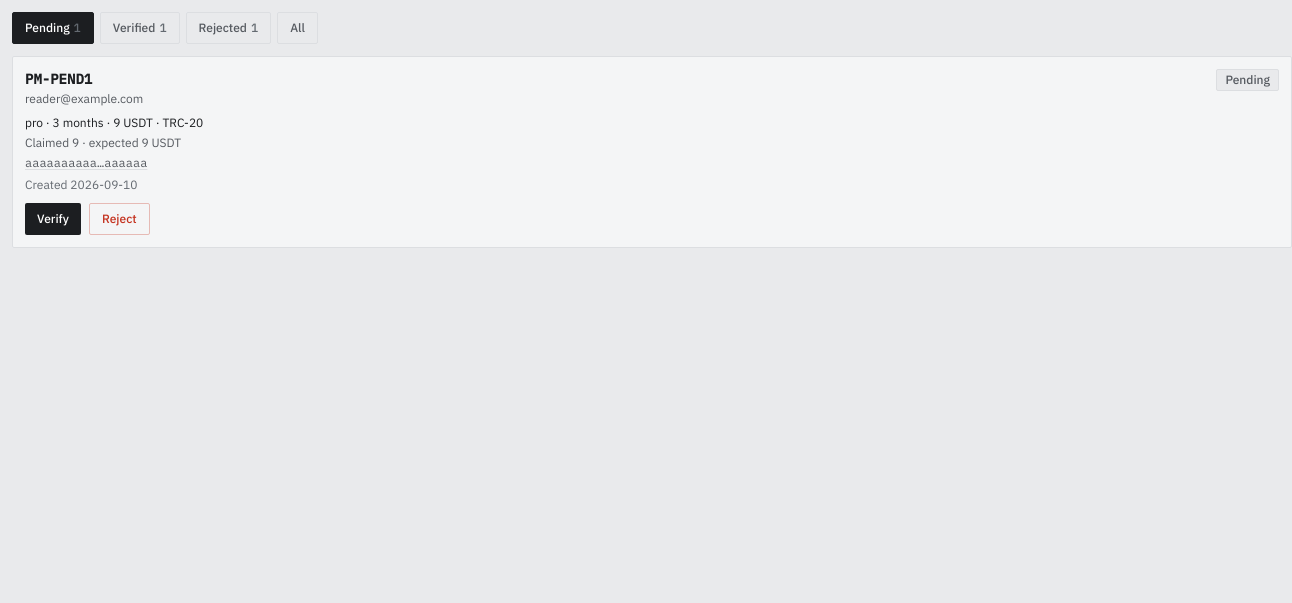
Test: filters the list by status, pending first
expect the number of list items with test id "admin-order-row" is 1: met, box [12,56,1291,248]
expect the text "PM-PEND1" is shown: met, box [25,70,92,88]
Click the button with test id "filter-verified": [140, 28] box [100,12,180,44]
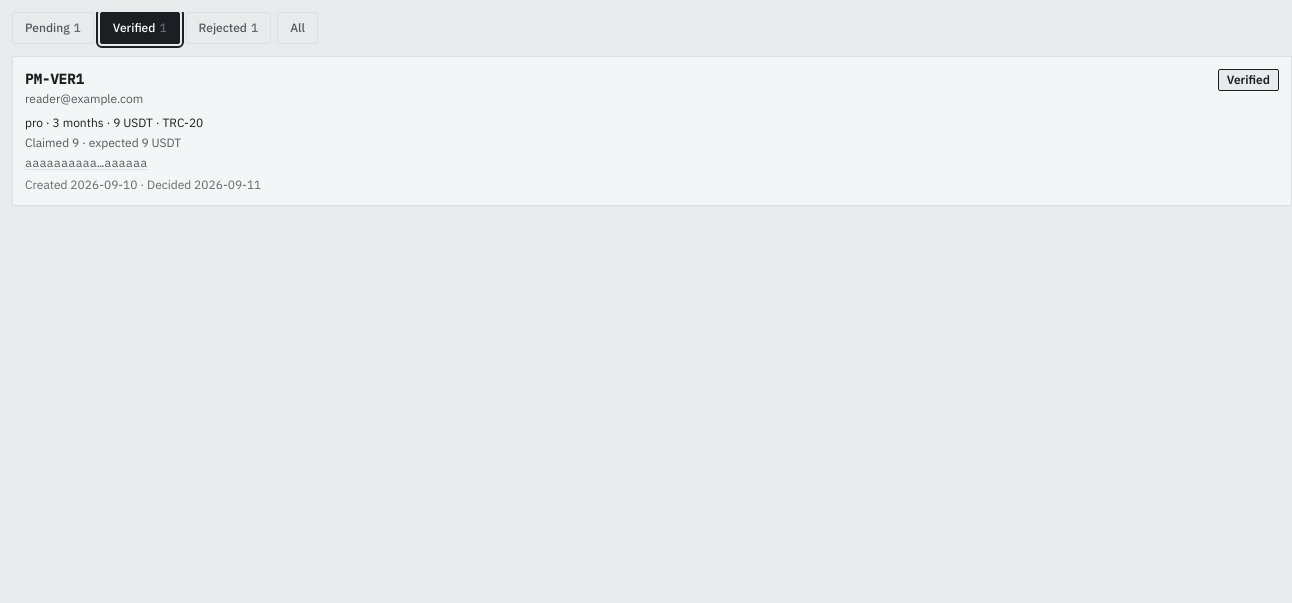
expect the text "PM-VER1" is shown: met, box [25,70,84,88]
expect the text "PM-PEND1" is gone: met
Click the button with test id "filter-rejected": [228, 28] box [186,12,271,44]
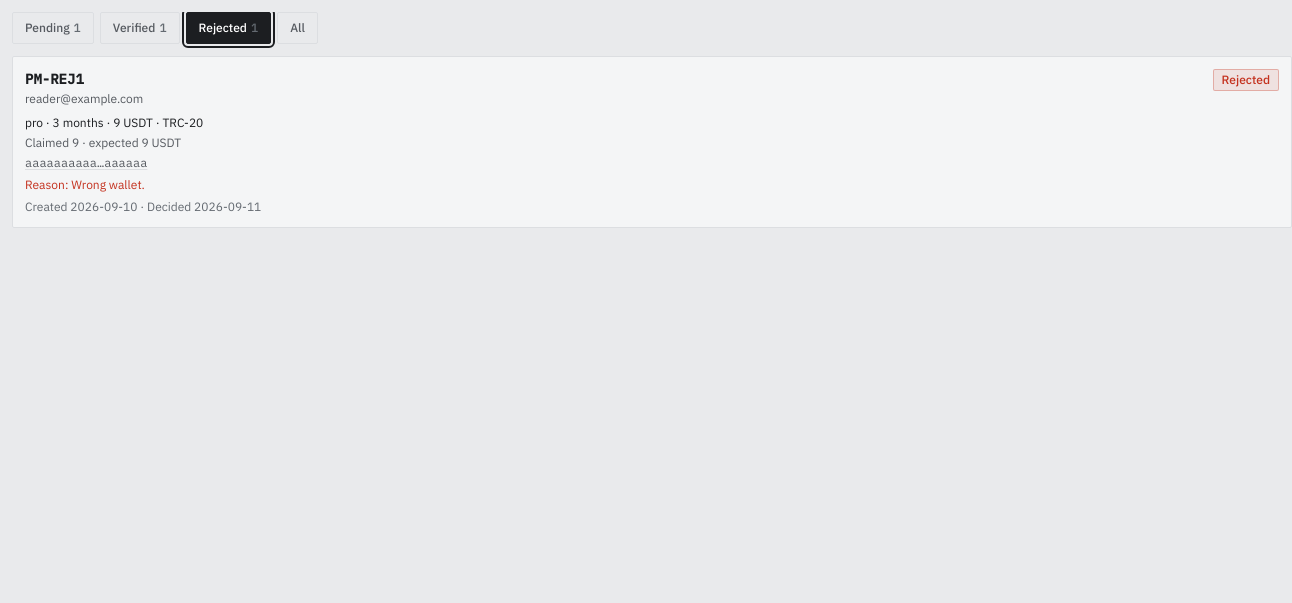
expect the text "PM-REJ1" is shown: met, box [25,70,84,88]
expect the text "Reason: Wrong wallet." is shown: met, box [25,177,145,192]
Click the button with test id "filter-all": [298, 28] box [277,12,318,44]
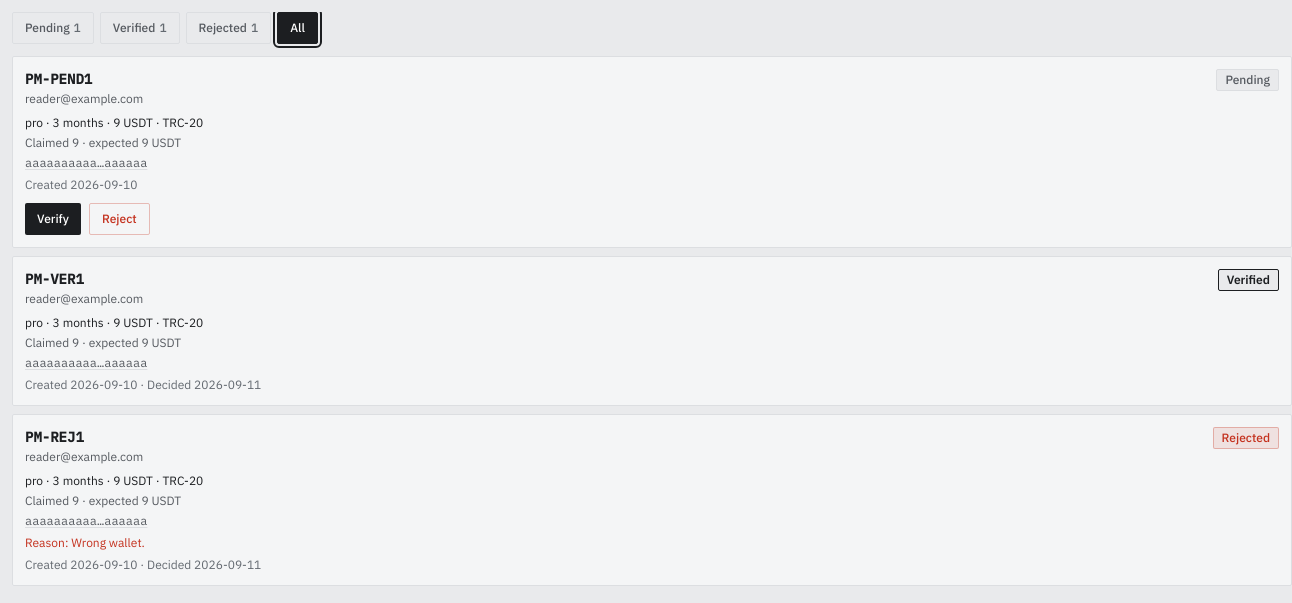
expect the number of list items with test id "admin-order-row" is 3: met, box [12,56,1291,248]; [12,256,1291,406]; [12,414,1291,586]
